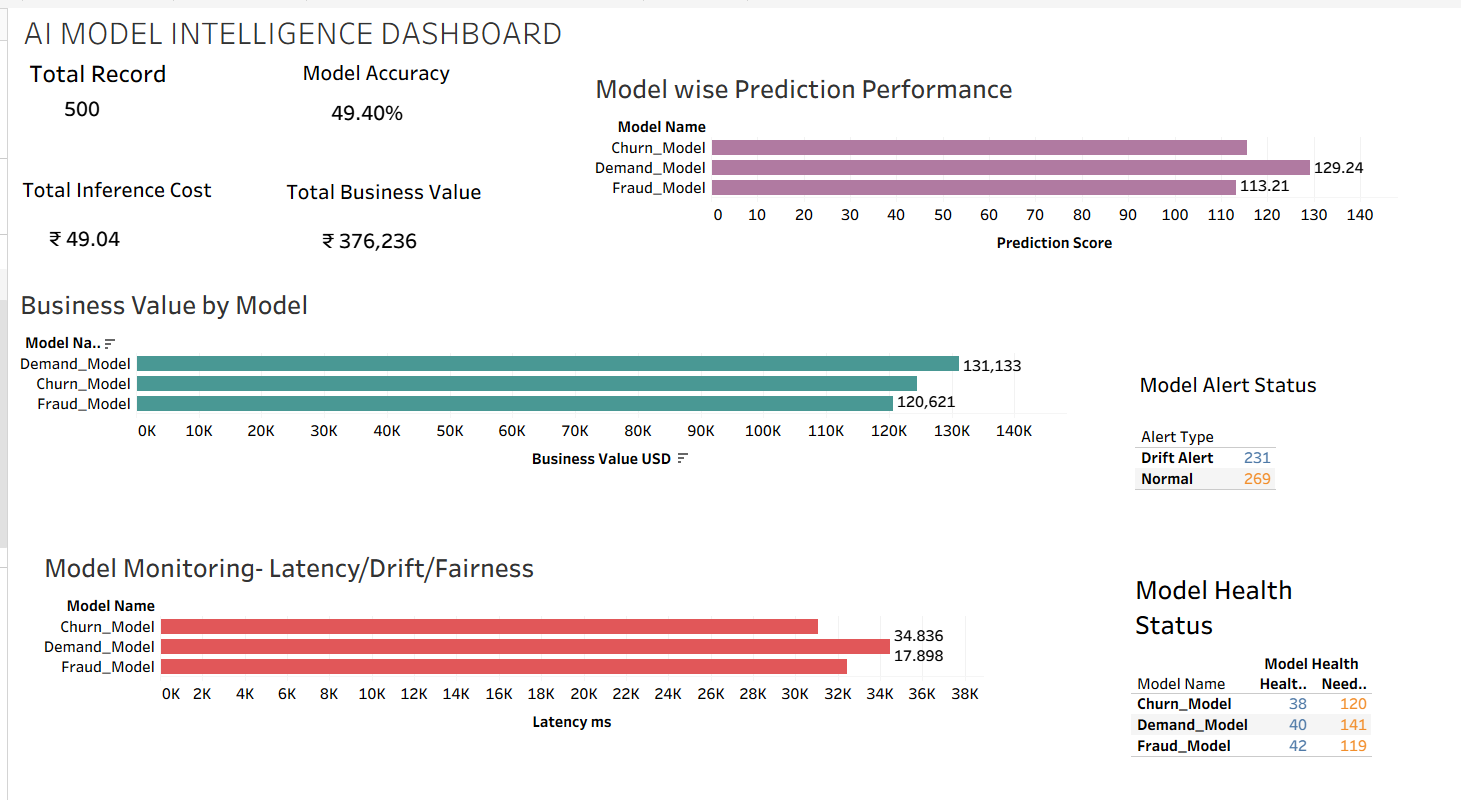

The dashboard page shown, as its layout file describes it:
{"tool":"tableau","page":{"name":"Dashboard 1","canvas":[1520,860],"ordinal":0},"visuals":[{"type":"title","box":[8,8,1504,50]},{"type":"text","box":[18,58,144,32]},{"type":"text","box":[291,58,155,30]},{"type":"worksheet","title":"Sheet 5","mark":"Automatic","rows":["Model_Name"],"cols":["Prediction_Score"],"box":[583,68,807,248]},{"type":"worksheet","title":"Sheet 1","mark":"Automatic","box":[36,96,117,51]},{"type":"worksheet","title":"Sheet 2","mark":"Automatic","box":[319,100,137,50]},{"type":"text","box":[11,175,197,30]},{"type":"text","box":[275,177,202,30]},{"type":"worksheet","title":"Sheet 4","mark":"Automatic","box":[36,226,146,60]},{"type":"worksheet","title":"Sheet 3","mark":"Automatic","box":[293,228,201,54]},{"type":"worksheet","title":"Sheet 6","mark":"Bar","rows":["Model_Name"],"cols":["Business_Value_USD"],"box":[8,284,1051,266]},{"type":"text","box":[1128,357,185,56]},{"type":"worksheet","title":"Sheet 8","mark":"Automatic","rows":["Calculation_0266117706792961"],"box":[1127,428,273,132]},{"type":"worksheet","title":"Sheet 9","mark":"Automatic","rows":["Model_Name"],"cols":["Latency_ms"],"box":[32,547,944,297]},{"type":"worksheet","title":"Sheet 7","mark":"Automatic","rows":["Model_Name"],"cols":["Model_Health"],"box":[1123,569,342,198]}]}

Visuals, with their boxes on the page's 1520x860 design canvas (x1, y1, x2, y2). These are canvas units, not pixel positions in the 1461x800 screenshot, which may show the page scaled, cropped or inside an application window:
title: detection(8, 8, 1512, 58)
text: detection(18, 58, 162, 90)
text: detection(291, 58, 446, 88)
"Sheet 5" worksheet: detection(583, 68, 1390, 316)
"Sheet 1" worksheet: detection(36, 96, 153, 147)
"Sheet 2" worksheet: detection(319, 100, 456, 150)
text: detection(11, 175, 208, 205)
text: detection(275, 177, 477, 207)
"Sheet 4" worksheet: detection(36, 226, 182, 286)
"Sheet 3" worksheet: detection(293, 228, 494, 282)
"Sheet 6" worksheet (Bar marks): detection(8, 284, 1059, 550)
text: detection(1128, 357, 1313, 413)
"Sheet 8" worksheet: detection(1127, 428, 1400, 560)
"Sheet 9" worksheet: detection(32, 547, 976, 844)
"Sheet 7" worksheet: detection(1123, 569, 1465, 767)
